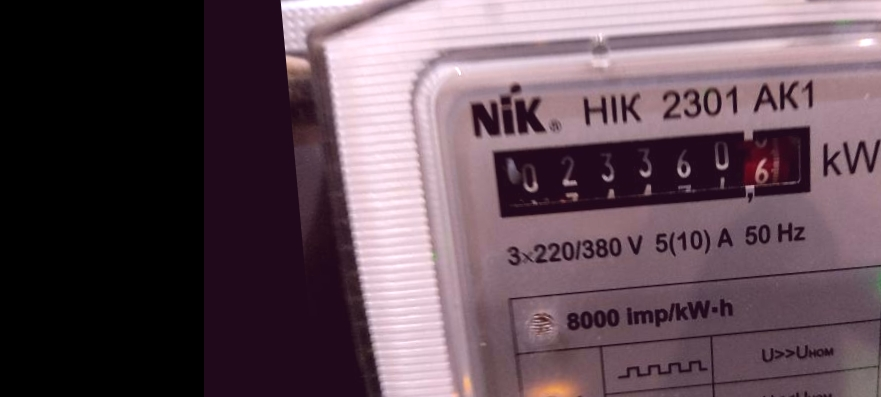0: (517, 157, 542, 194), (709, 135, 734, 172)
2: (557, 151, 581, 188)
3: (595, 148, 618, 184), (634, 143, 655, 179)
6: (671, 143, 694, 179), (750, 151, 771, 186)
screen: (478, 108, 836, 238)
